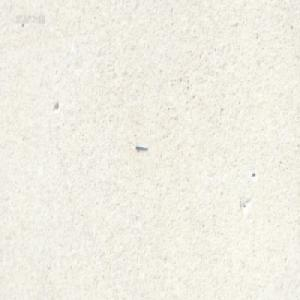Nail: (134, 142, 147, 149)
